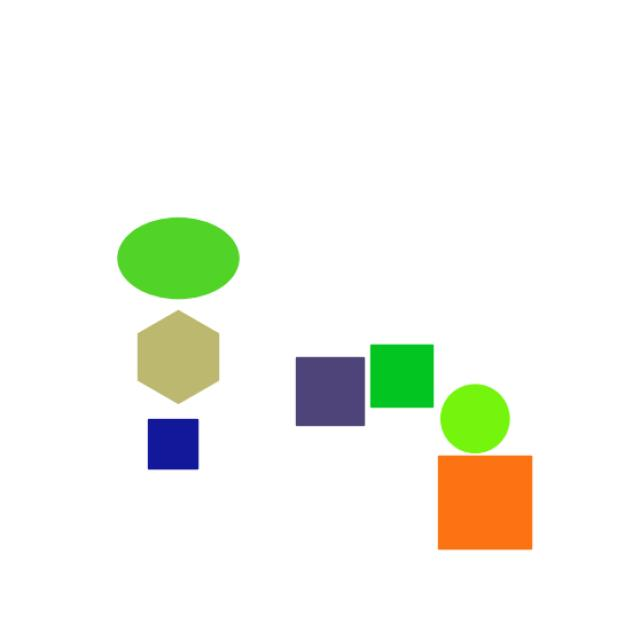Circle: (433, 373, 519, 461)
Hexagon: (120, 311, 238, 422)
Oval: (87, 200, 241, 300)
square: (430, 440, 541, 570), (282, 351, 377, 438), (360, 334, 441, 424), (139, 410, 207, 480)
